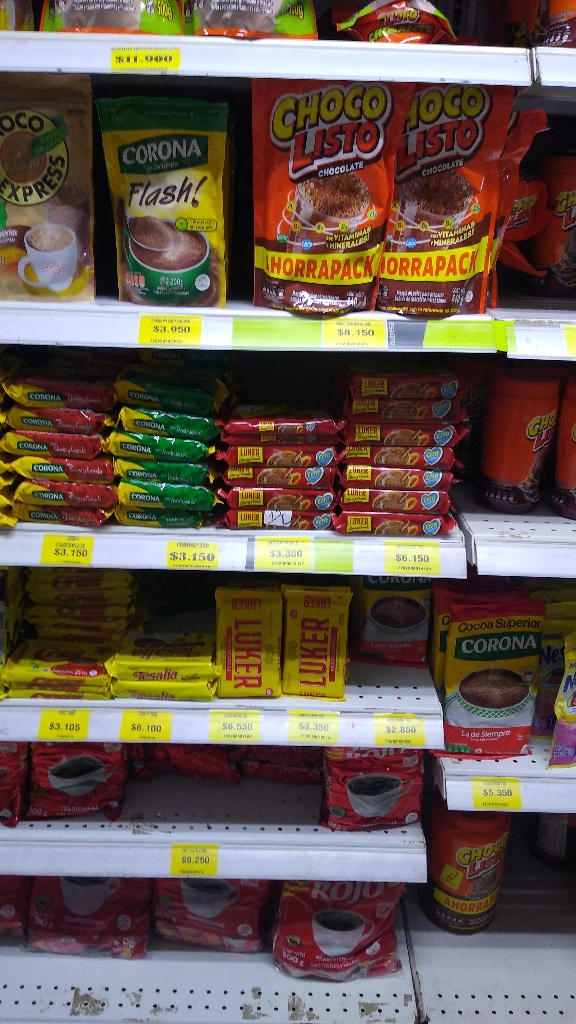COL0170103DYP44000: (248, 79, 384, 316)
COL0170103TRR00100: (435, 807, 513, 943)
